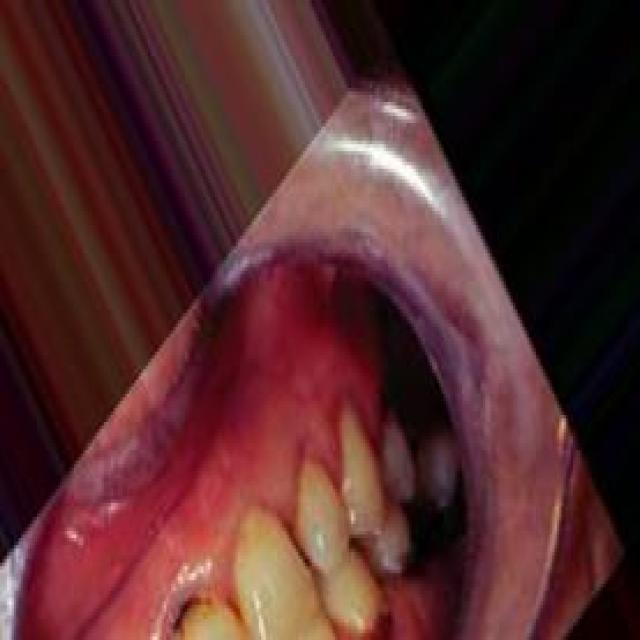caries: (358, 598, 400, 640)
